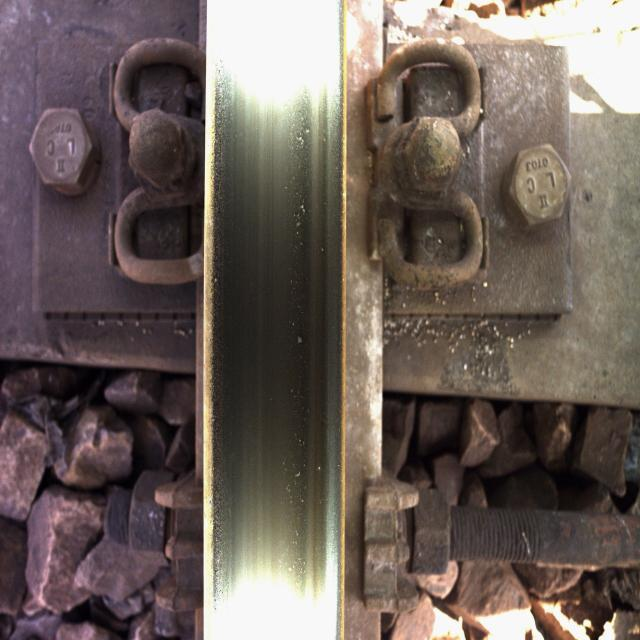break: (228, 37, 314, 628)
